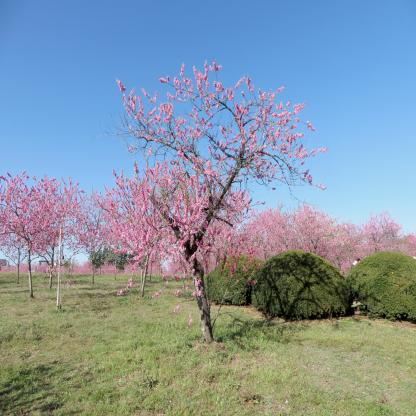Momo: (88, 52, 335, 329), (207, 202, 416, 272), (0, 166, 102, 274)
